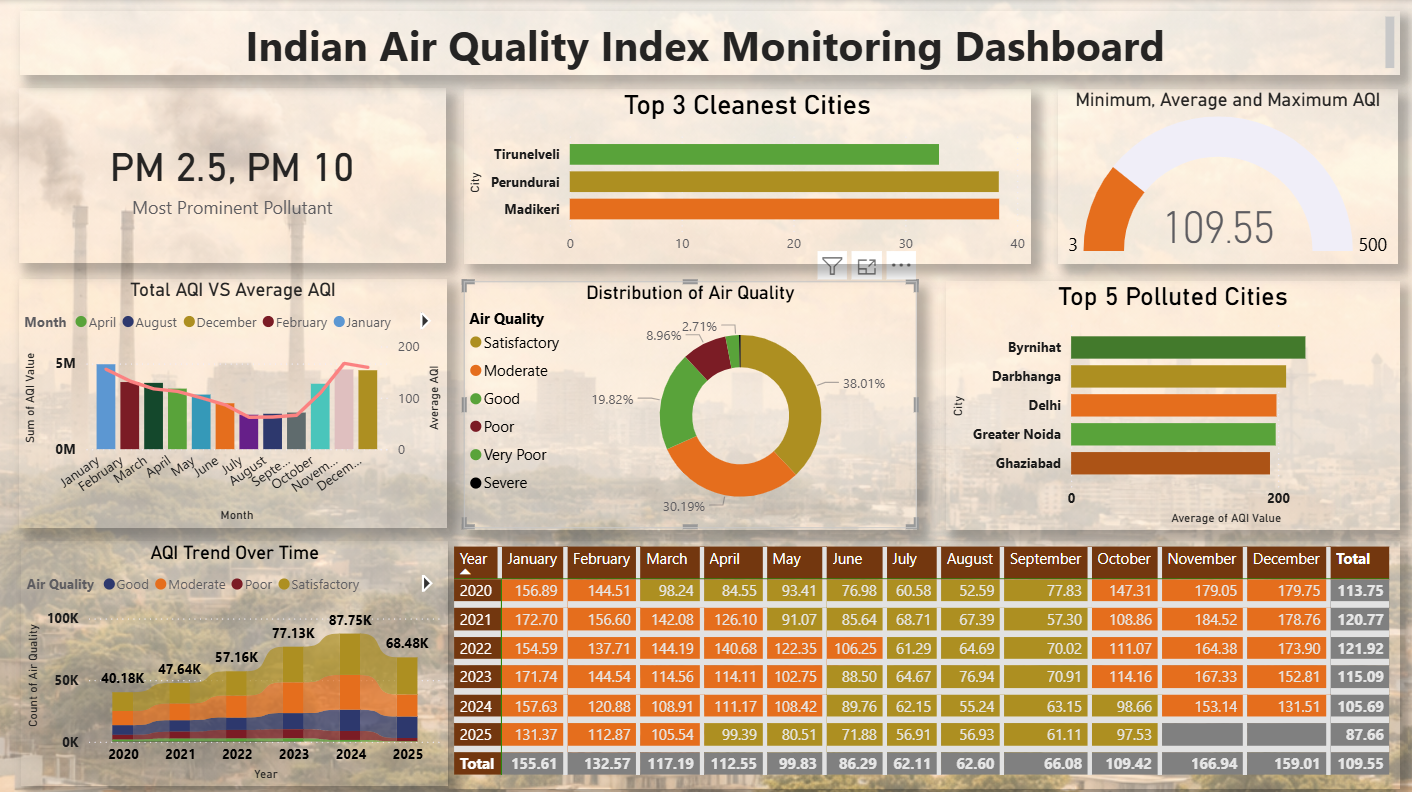

What the dashboard file says about the page in this screenshot:
{"tool":"powerbi","page":{"name":"Page 1","canvas":[1280,720],"ordinal":0},"visuals":[{"type":"gauge","title":"Minimum, Average and Maximum AQI ","fields":{"Y":["Avg(in.AQI Value)"],"MinValue":["Min(in.AQI Value)"],"MaxValue":["Max(in.AQI Value)"]},"box":[958.5,80.3,307.4,157.5],"z":0},{"type":"textbox","box":[22,9.6,1244.2,57.8],"z":1000},{"type":"donutChart","title":"Distribution of Air Quality ","fields":{"Category":["in.Air Quality"],"Y":["CountNonNull(in.Air Quality)"]},"box":[422.9,253.4,408.9,223.9],"z":2000},{"type":"ribbonChart","title":"AQI Trend Over Time","fields":{"Category":["in.Date.Variation.Date Hierarchy.Year"],"Series":["in.Air Quality"],"Y":["CountNonNull(in.Air Quality)"]},"box":[23.2,488.1,384.8,220.8],"z":3000},{"type":"clusteredBarChart","title":"Top 5 Polluted Cities","fields":{"Y":["Avg(in.AQI Value)"],"Category":["in.City"]},"box":[857.5,253.2,408.8,224.3],"z":4000},{"type":"clusteredBarChart","title":"Top 3 Cleanest Cities","fields":{"Y":["Avg(in.AQI Value)"],"Category":["in.City"]},"box":[422.2,80.2,511.2,157.9],"z":5000},{"type":"lineStackedColumnComboChart","title":"  Total AQI VS Average AQI","fields":{"Category":["in.Date.Variation.Date Hierarchy.Month"],"Y":["Sum(in.AQI Value)"],"Y2":["in.Average AQI"],"Series":["in.Month"]},"box":[22,251.8,386.1,224.7],"z":6000},{"type":"card","fields":{"Values":["Min(in.Prominent Pollutant)"]},"box":[21.8,79.3,385.6,158.6],"z":7000},{"type":"pivotTable","fields":{"Rows":["in.Date.Variation.Date Hierarchy.Year"],"Columns":["in.Date.Variation.Date Hierarchy.Month"],"Values":["Avg(in.AQI Value)"]},"box":[409.3,488.1,857.4,223.4],"z":8000}]}

Visuals, with their boxes in screenshot pixels (x1, y1, x2, y2), scaled from the page's 1280x720 canvas onto the 1412x792 screenshot:
"Minimum, Average and Maximum AQI " gauge: <bbox>1057, 88, 1396, 262</bbox>
textbox: <bbox>24, 11, 1397, 74</bbox>
"Distribution of Air Quality " donutChart: <bbox>467, 279, 918, 525</bbox>
"AQI Trend Over Time" ribbonChart: <bbox>26, 537, 450, 780</bbox>
"Top 5 Polluted Cities" clusteredBarChart: <bbox>946, 279, 1397, 525</bbox>
"Top 3 Cleanest Cities" clusteredBarChart: <bbox>466, 88, 1030, 262</bbox>
"  Total AQI VS Average AQI" lineStackedColumnComboChart: <bbox>24, 277, 450, 524</bbox>
card - Min(in.Prominent Pollutant): <bbox>24, 87, 449, 262</bbox>
pivotTable - in.Date.Variation.Date Hierarchy.Year x in.Date.Variation.Date Hierarchy.Month: <bbox>452, 537, 1397, 783</bbox>
